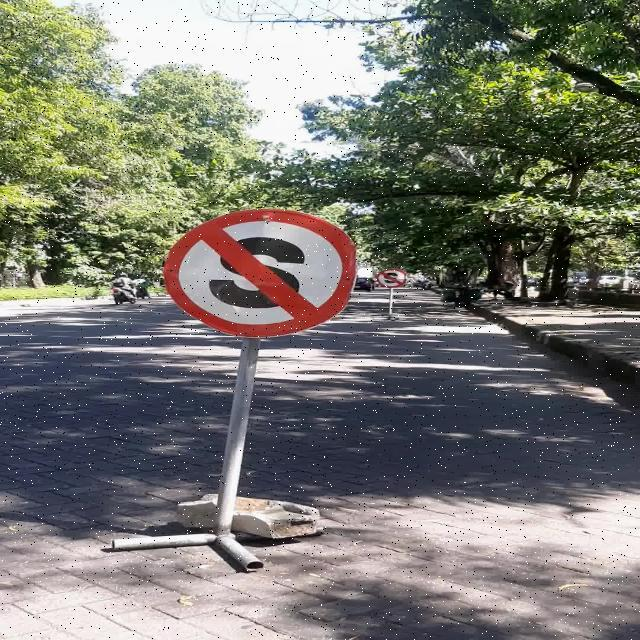Dilarang Berhenti: (164, 208, 357, 338)
